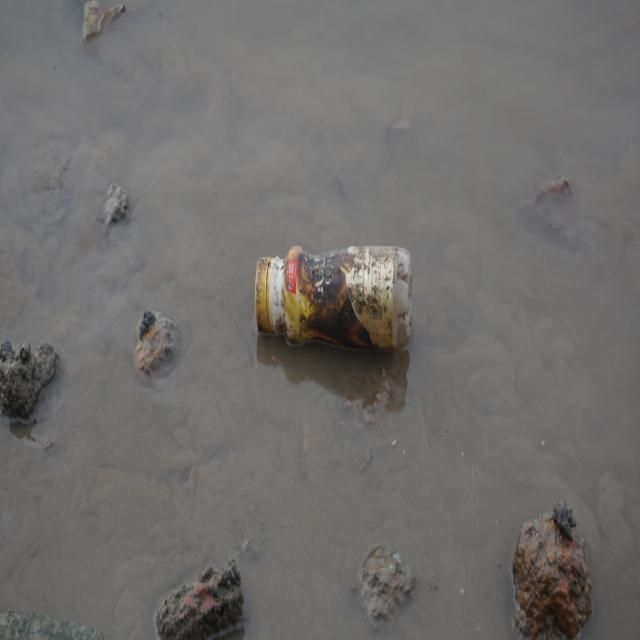Botol Plastik: (251, 236, 420, 363)
